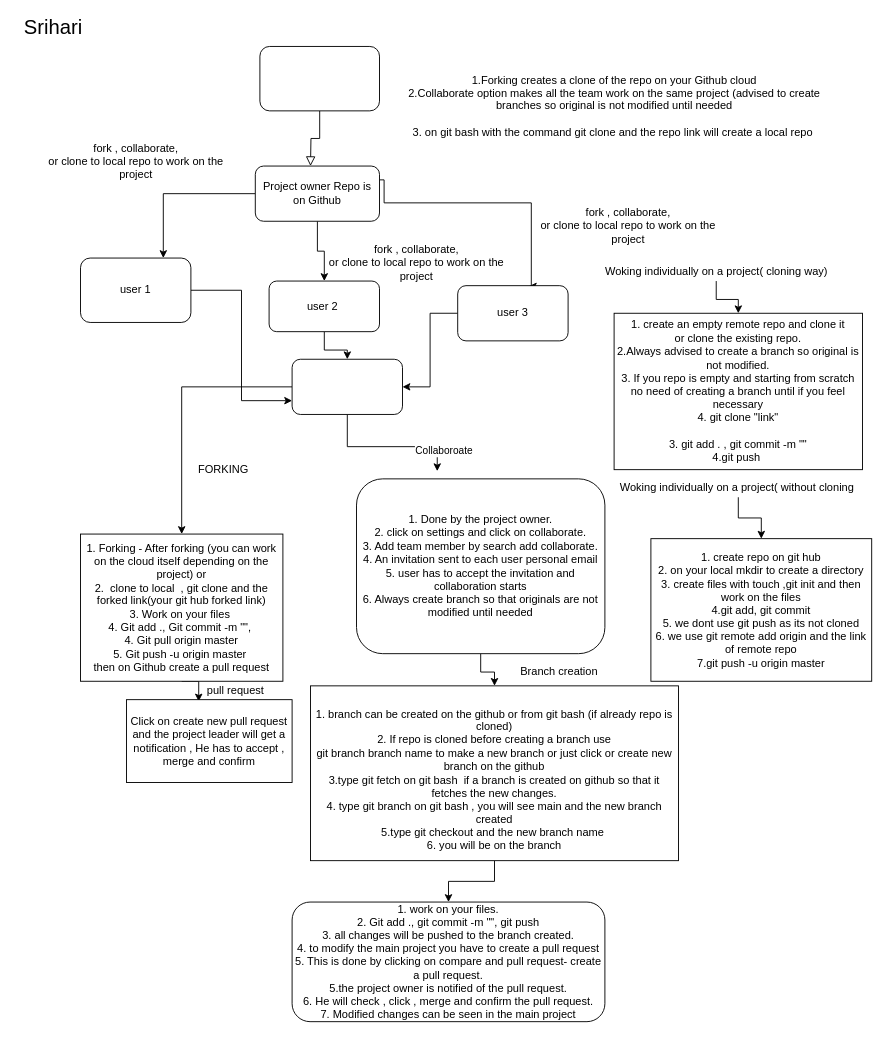
Some shapes in this 888 by 1038 pixel diagram are drawn without their labels. The shapes that lost their labels are listed below. From the top down, each one's centre as x and y in pixels, then its label:
At point 319,78: "Team project- Project owner and three users".
At point 346,386: "steps with different methods".
